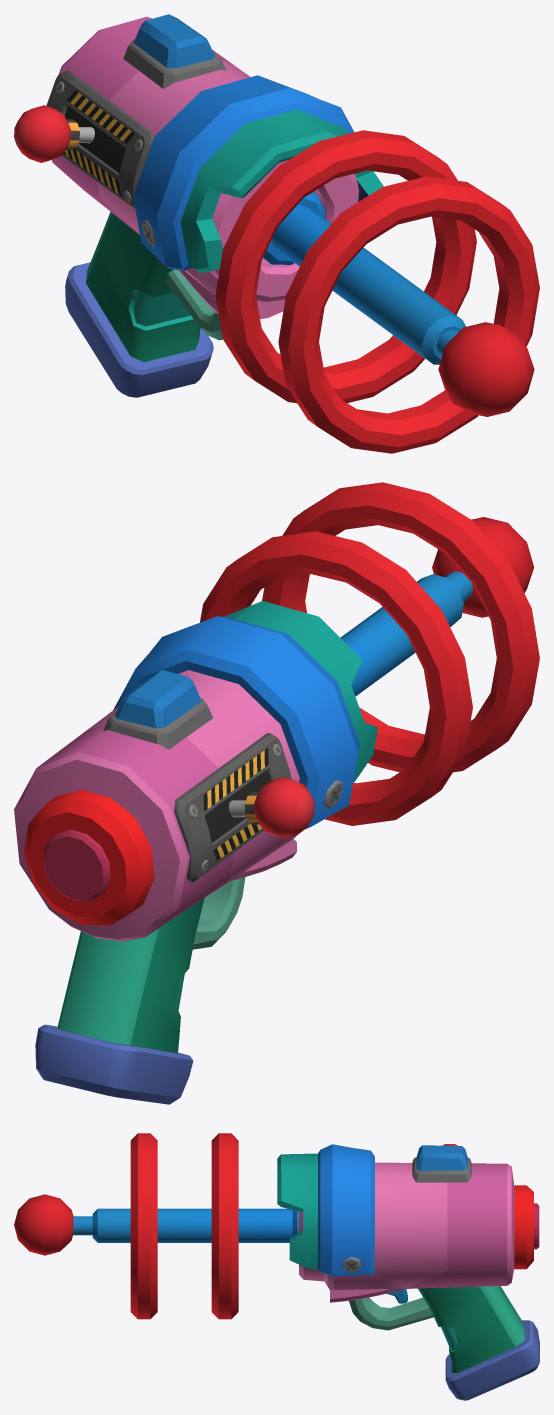
The model's file is SM_Blaster_1_B_SW.fbx.
The picture shows the model from 3 angles, top to bottom: view 1: azimuth 30°, elevation 25°; view 2: azimuth 150°, elevation 25°; view 3: azimuth 270°, elevation 25°; orthographic projection. The views are drawn at different scales.
Visible parts, largest first — view 1: SM_Blaster_1_B_SW, Blaster_1_Handle_SW.001; view 2: SM_Blaster_1_B_SW, Blaster_1_Handle_SW.001; view 3: SM_Blaster_1_B_SW.
Part boxes in pixels (x1,y1,x2,y2): SM_Blaster_1_B_SW: (46,14,539,453); Blaster_1_Handle_SW.001: (14,105,94,162); SM_Blaster_1_B_SW: (14,482,539,1104); Blaster_1_Handle_SW.001: (228,777,314,838); SM_Blaster_1_B_SW: (14,1133,539,1400).
Size of the model in its own units: 0.2353 by 0.3123 by 0.5991.
